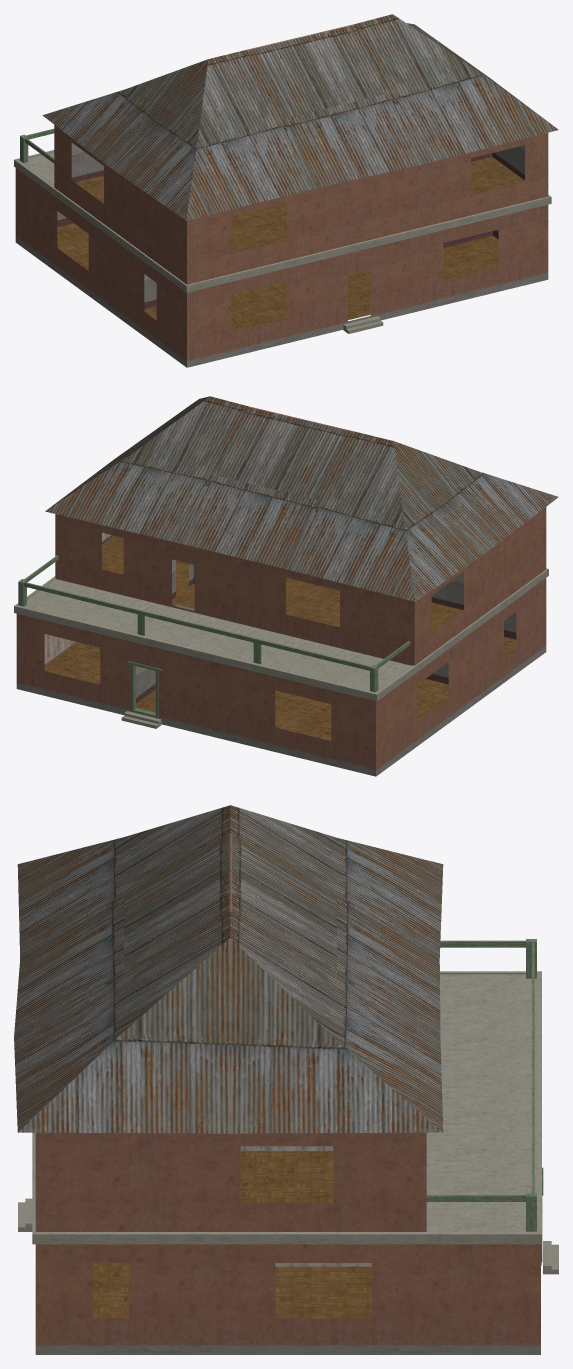
Rendered from BuildingLarge2c012048_lod2.glb.
3 renders of one model, top to bottom at view 1: azimuth 30°, elevation 25°; view 2: azimuth 150°, elevation 25°; view 3: azimuth 270°, elevation 25°, orthographic. The views are drawn at different scales.
Visible parts, largest first — view 1: xiutz_building_large_2c_01_lod2; view 2: xiutz_building_large_2c_01_lod2; view 3: xiutz_building_large_2c_01_lod2.
Boxes of the visible parts, <box> form: xiutz_building_large_2c_01_lod2: <box>14,14,558,367</box>; xiutz_building_large_2c_01_lod2: <box>14,396,558,776</box>; xiutz_building_large_2c_01_lod2: <box>14,805,558,1354</box>.
Bounding box in the file's own units: 25.04 × 15.18 × 21.26.
Materials: 1 (1 with a texture image).
